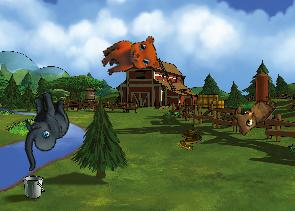bear: (96, 28, 165, 89)
elephant: (6, 87, 81, 171)
owl: (227, 86, 278, 139)
